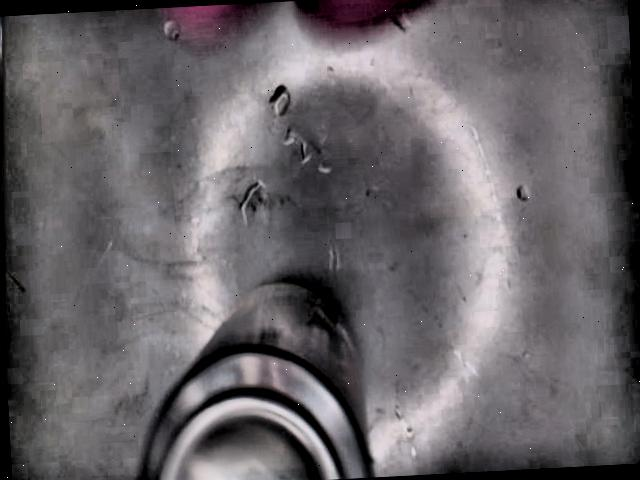Bottles: (140, 285, 370, 480)
